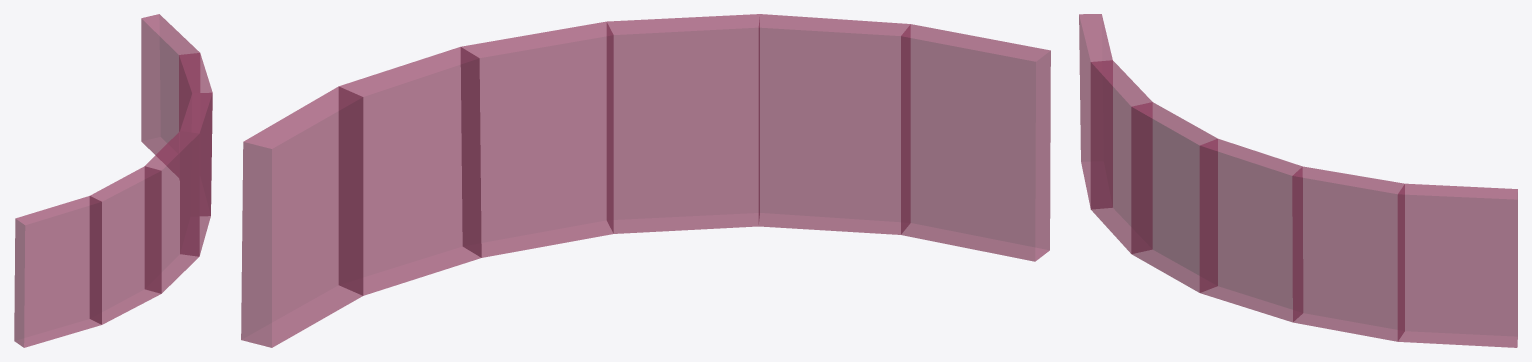
The model's file is SM_Bld_Stairs_Railing_Round_01_Collision.fbx.
3 views of the same model, side by side, from view 1: azimuth 30°, elevation 25°; view 2: azimuth 150°, elevation 25°; view 3: azimuth 270°, elevation 25° (orthographic). The views are drawn at different scales.
Visible parts, largest first — view 1: SM_Bld_Stairs_Railing_Round_01_Collision; view 2: SM_Bld_Stairs_Railing_Round_01_Collision; view 3: SM_Bld_Stairs_Railing_Round_01_Collision.
Part boxes in pixels (x1=…): SM_Bld_Stairs_Railing_Round_01_Collision: x1=14, y1=14, x2=212, y2=347; SM_Bld_Stairs_Railing_Round_01_Collision: x1=241, y1=14, x2=1050, y2=347; SM_Bld_Stairs_Railing_Round_01_Collision: x1=1079, y1=14, x2=1517, y2=347.
Bounding box in the file's own units: 259 × 95.58 × 258.
